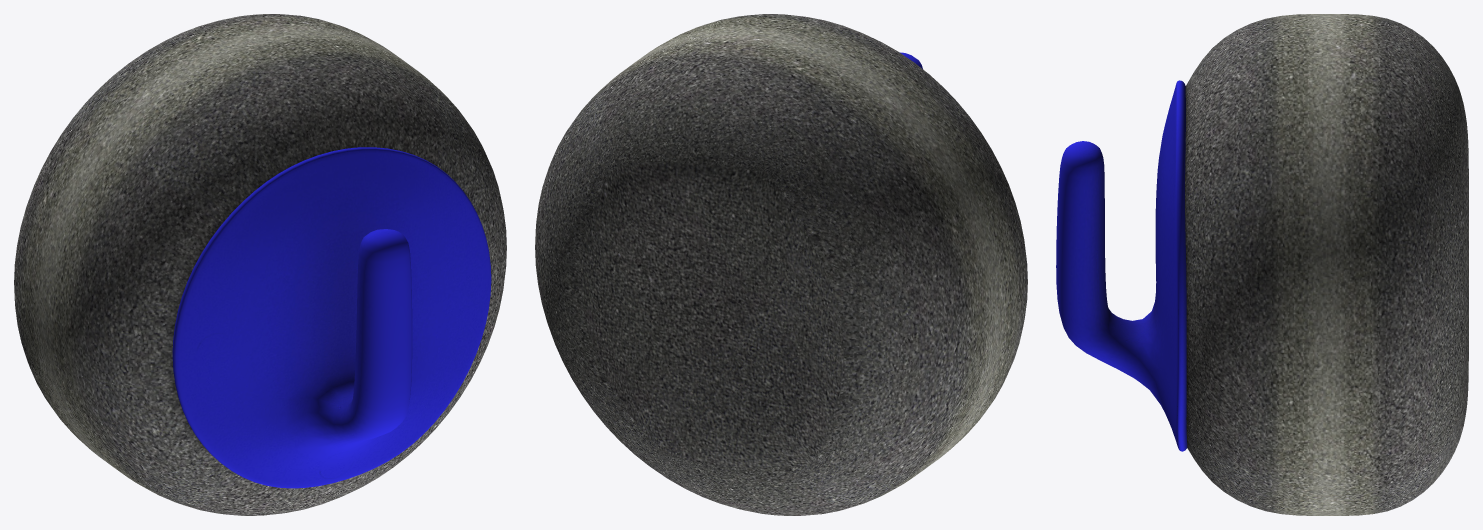
File: 11720_Curling_Stone_v1_L3.obj
The picture shows the model from 3 angles, left to right: view 1: azimuth 30°, elevation 25°; view 2: azimuth 150°, elevation 25°; view 3: azimuth 270°, elevation 25°; orthographic projection.
Visible parts, largest first — view 1: 11720_Curling_Stone; view 2: 11720_Curling_Stone; view 3: 11720_Curling_Stone.
Boxes of the visible parts, left/top/right/bottom form: 11720_Curling_Stone: left=14, top=14, right=506, bottom=515; 11720_Curling_Stone: left=535, top=14, right=1027, bottom=515; 11720_Curling_Stone: left=1056, top=14, right=1468, bottom=515.
Size of the model in its own units: 19.32 by 19.33 by 15.89.
1 material, 1 textured.
